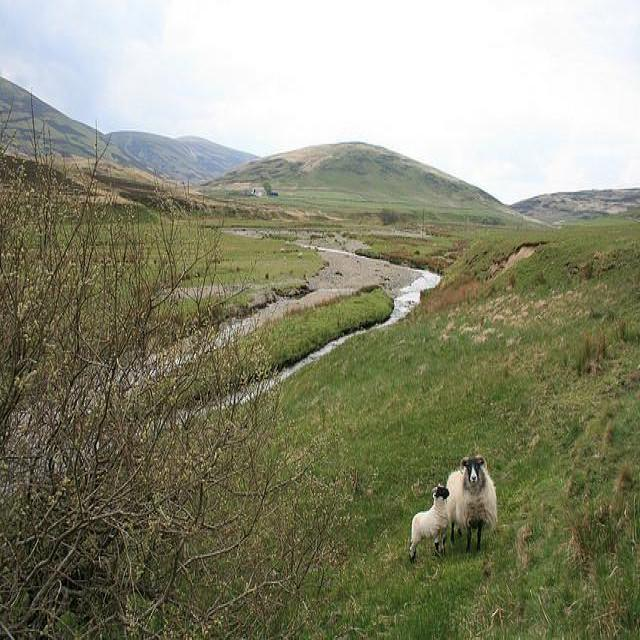Sheep: (447, 456, 498, 554), (409, 484, 451, 565)
